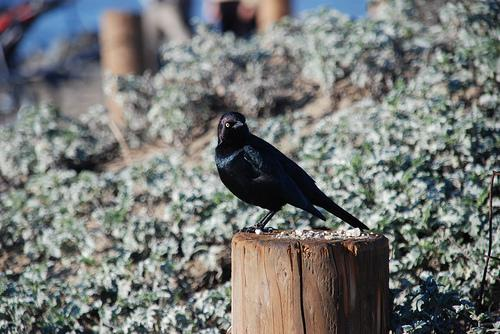009.Brewer_Blackbird: (215, 110, 369, 237)
